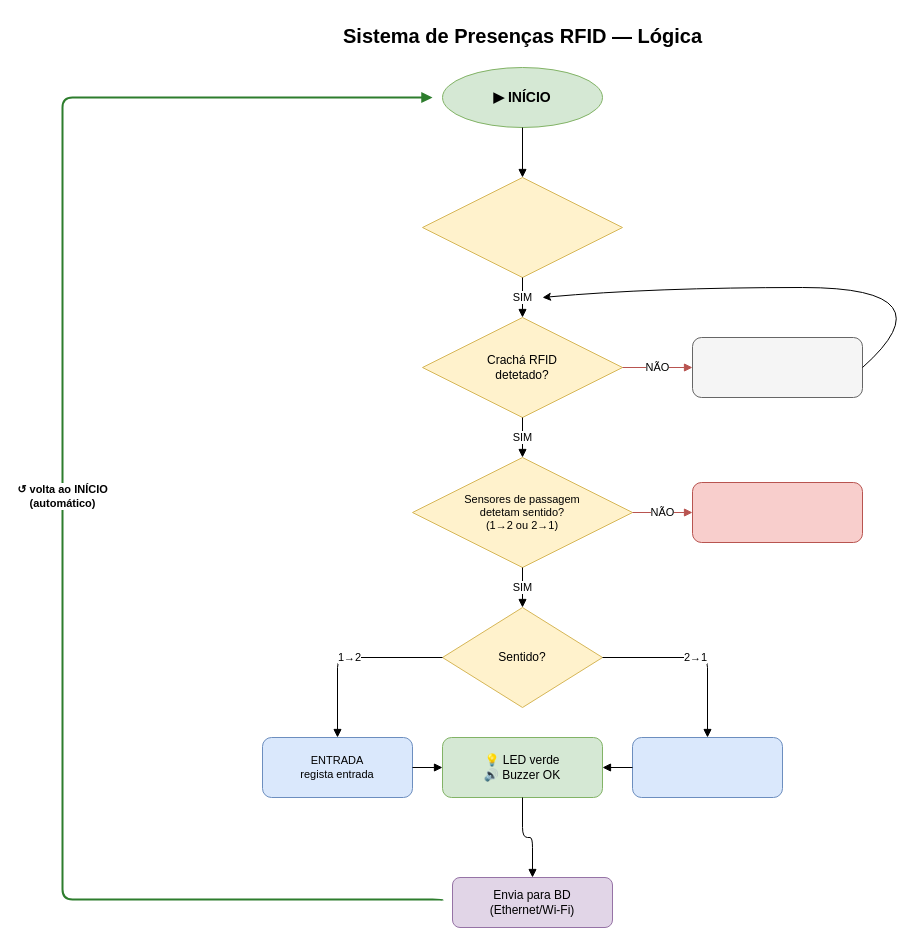
Image size: 914x945. Some labels were removed from this diagram. Each missing label, with the centre of its shape:
"NÃO → aguarda (loop)" goes at (x=777, y=367).
"NÃO → ignora leitura" goes at (x=777, y=512).
"SAÍDA regista saída" goes at (x=707, y=767).
"Sistema ligado? (PLC + leitor + rede)" goes at (x=522, y=227).
